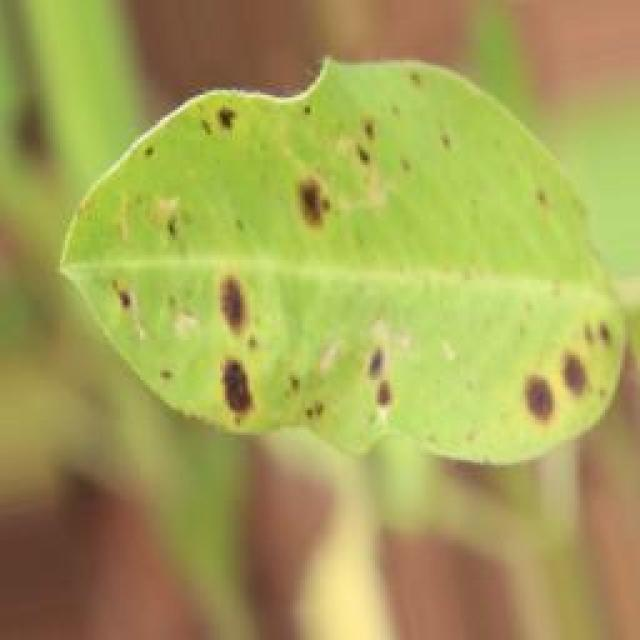Yellowish: (24, 62, 637, 526)
